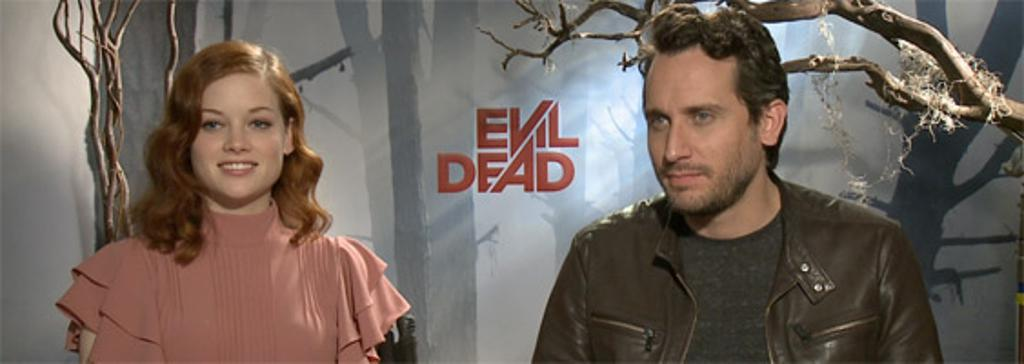face: (644, 48, 758, 212), (198, 68, 278, 198)
